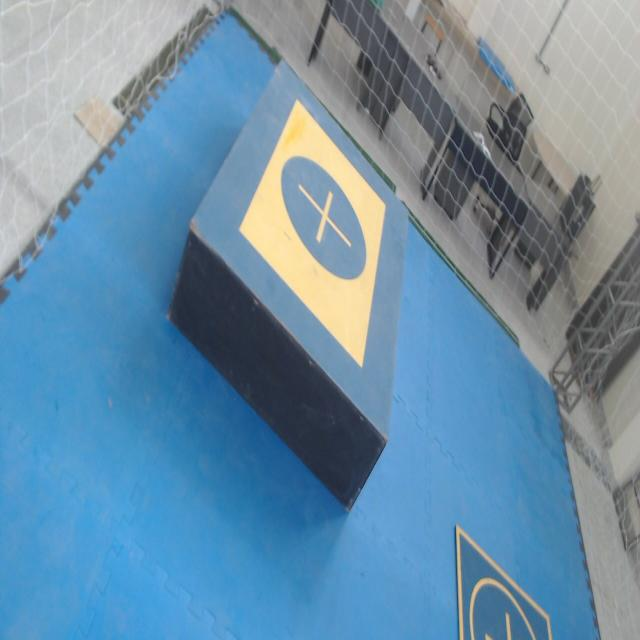base_inicio: (239, 99, 386, 367)
base_pouso: (456, 526, 553, 639)
